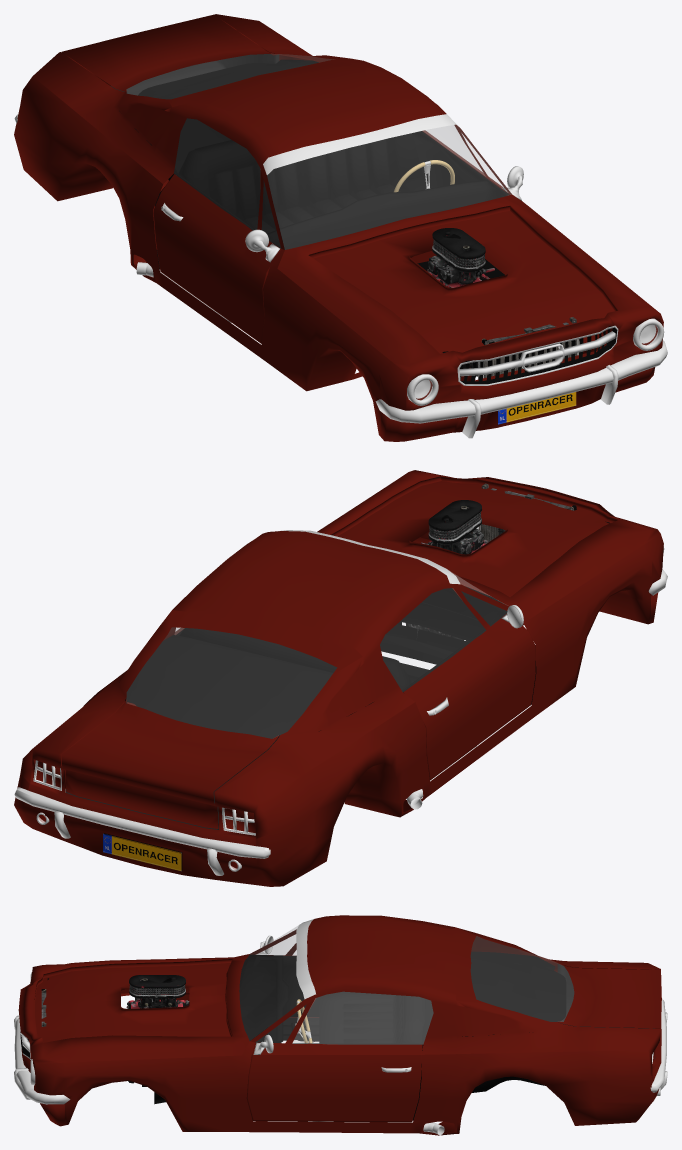
File: OpenRacer muscle.glb
The picture shows the model from 3 angles, top to bottom: view 1: azimuth 30°, elevation 25°; view 2: azimuth 150°, elevation 25°; view 3: azimuth 270°, elevation 25°; orthographic projection. The views are drawn at different scales.
Parts seen in each view (by area): view 1: Body, Hood, windows, rightdoor, trunk, rightdoor.001, frontbumper, windows.003, grille, leftdoor, powerfilter, grille_emblem (+6 smaller); view 2: Body, trunk, windows.003, Hood, rightdoor, rightdoor.001, rear-bumper, powerfilter, license-back, engine_low, windows; view 3: Body, leftdoor, Hood, window_door_left, window_door_left_broken, windows.003, windows, trunk, powerfilter, rightdoor, frontbumper, rear-bumper (+3 smaller).
Part boxes in pixels (x1=…): Body: x1=14, y1=14, x2=663, y2=441; Hood: x1=308, y1=206, x2=618, y2=353; windows: x1=263, y1=114, x2=511, y2=249; rightdoor: x1=153, y1=169, x2=281, y2=343; trunk: x1=61, y1=14, x2=277, y2=91; rightdoor.001: x1=174, y1=119, x2=260, y2=229; frontbumper: x1=375, y1=340, x2=667, y2=423; windows.003: x1=127, y1=54, x2=331, y2=98; grille: x1=457, y1=325, x2=618, y2=385; leftdoor: x1=412, y1=125, x2=522, y2=201; powerfilter: x1=432, y1=228, x2=485, y2=271; grille_emblem: x1=459, y1=331, x2=615, y2=376; Body: x1=14, y1=470, x2=663, y2=886; trunk: x1=61, y1=699, x2=278, y2=828; windows.003: x1=127, y1=628, x2=336, y2=738; Hood: x1=331, y1=476, x2=618, y2=597; rightdoor: x1=402, y1=588, x2=535, y2=780; rightdoor.001: x1=380, y1=588, x2=485, y2=691; rear-bumper: x1=14, y1=787, x2=270, y2=875; powerfilter: x1=428, y1=500, x2=481, y2=543; license-back: x1=103, y1=833, x2=182, y2=871; engine_low: x1=405, y1=528, x2=487, y2=641; windows: x1=278, y1=530, x2=505, y2=604; Body: x1=18, y1=915, x2=661, y2=1135; leftdoor: x1=246, y1=998, x2=423, y2=1122; Hood: x1=34, y1=959, x2=232, y2=1042; window_door_left: x1=293, y1=992, x2=432, y2=1043; window_door_left_broken: x1=293, y1=992, x2=432, y2=1043; windows.003: x1=471, y1=936, x2=573, y2=1021; windows: x1=240, y1=919, x2=315, y2=1039; trunk: x1=558, y1=964, x2=661, y2=1059; powerfilter: x1=129, y1=975, x2=185, y2=998; rightdoor: x1=248, y1=943, x2=319, y2=1017; frontbumper: x1=14, y1=1018, x2=70, y2=1104; rear-bumper: x1=650, y1=998, x2=667, y2=1092.
Size of the model in its own units: 1.88 by 1.12 by 4.73.
15 materials, 5 textured.
